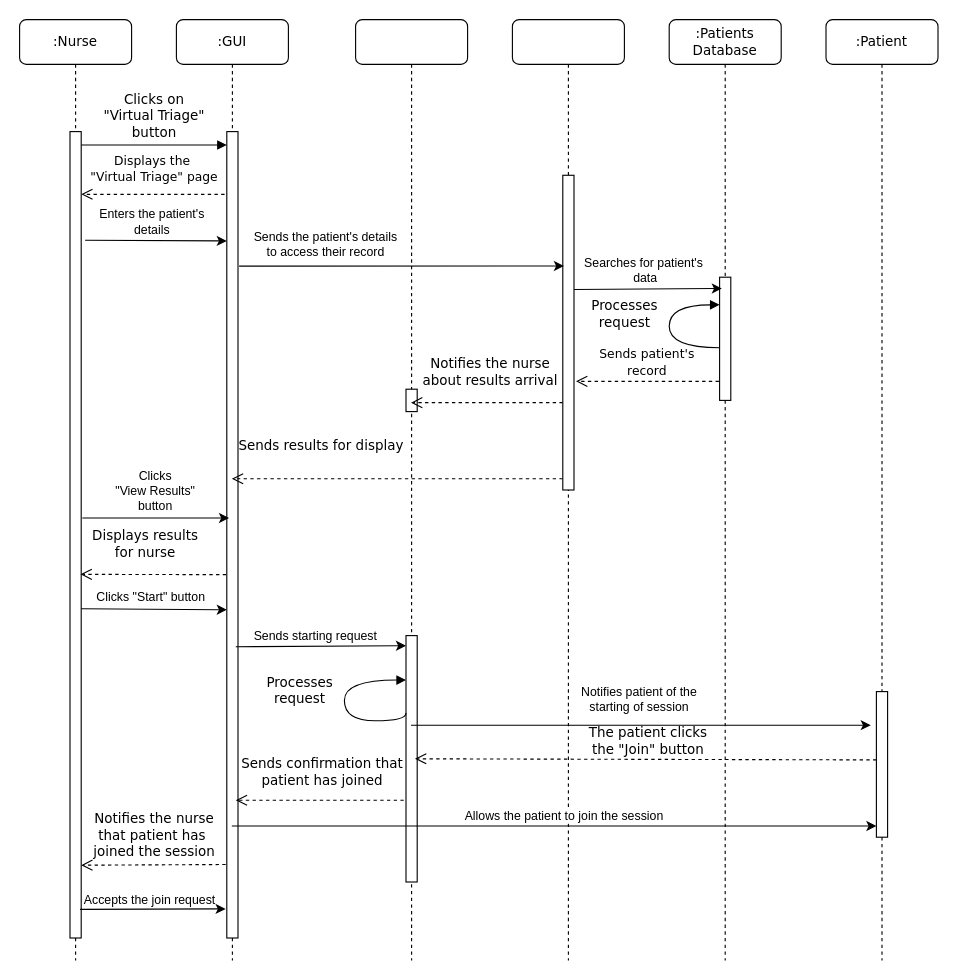
Some shapes in this 958 by 980 pixel diagram are drawn without their labels. Each missing label, with the box of its shape:
:Records: (511, 18, 624, 960)
:Virtual Triage: (354, 18, 468, 960)
